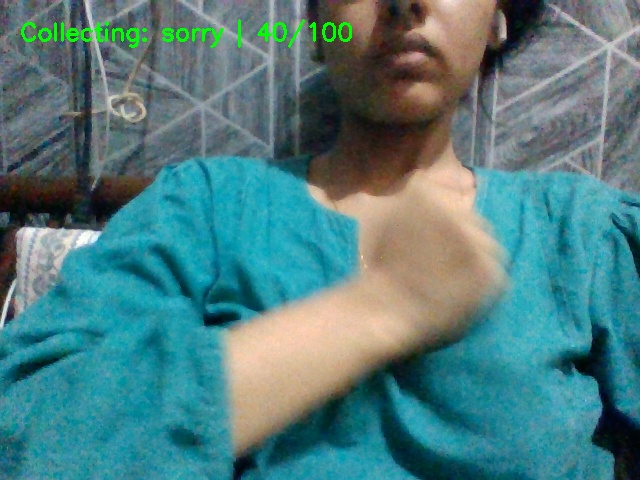sorry: (337, 161, 579, 394)
